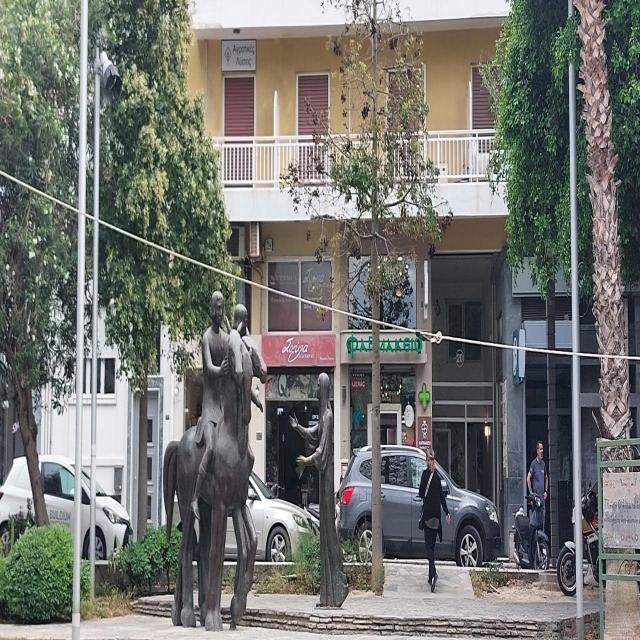Aretousa: (164, 291, 351, 632)
